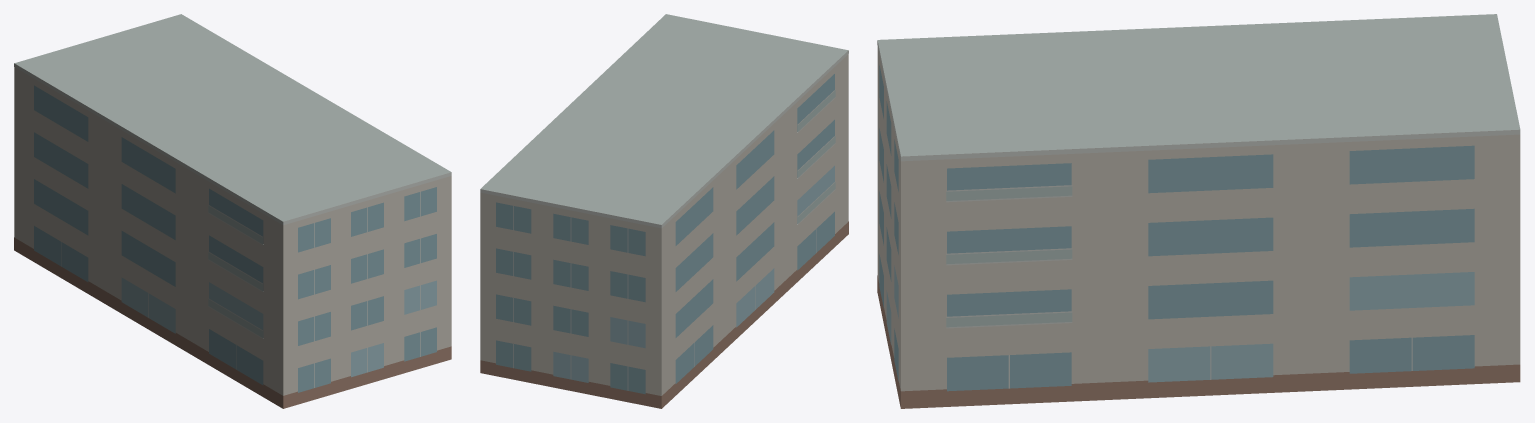
File: survey-upis-32983836.glb
The picture shows the model from 3 angles, left to right: view 1: azimuth 30°, elevation 25°; view 2: azimuth 150°, elevation 25°; view 3: azimuth 270°, elevation 25°; orthographic projection. The views are drawn at different scales.
Visible parts, largest first — view 1: survey-upis-32983836.tmp; view 2: survey-upis-32983836.tmp; view 3: survey-upis-32983836.tmp.
Part boxes in pixels (<box>): survey-upis-32983836.tmp: <box>14,14,451,408</box>; survey-upis-32983836.tmp: <box>480,14,848,408</box>; survey-upis-32983836.tmp: <box>877,14,1520,408</box>.
Size of the model in its own units: 15.51 by 12.8 by 29.57.
